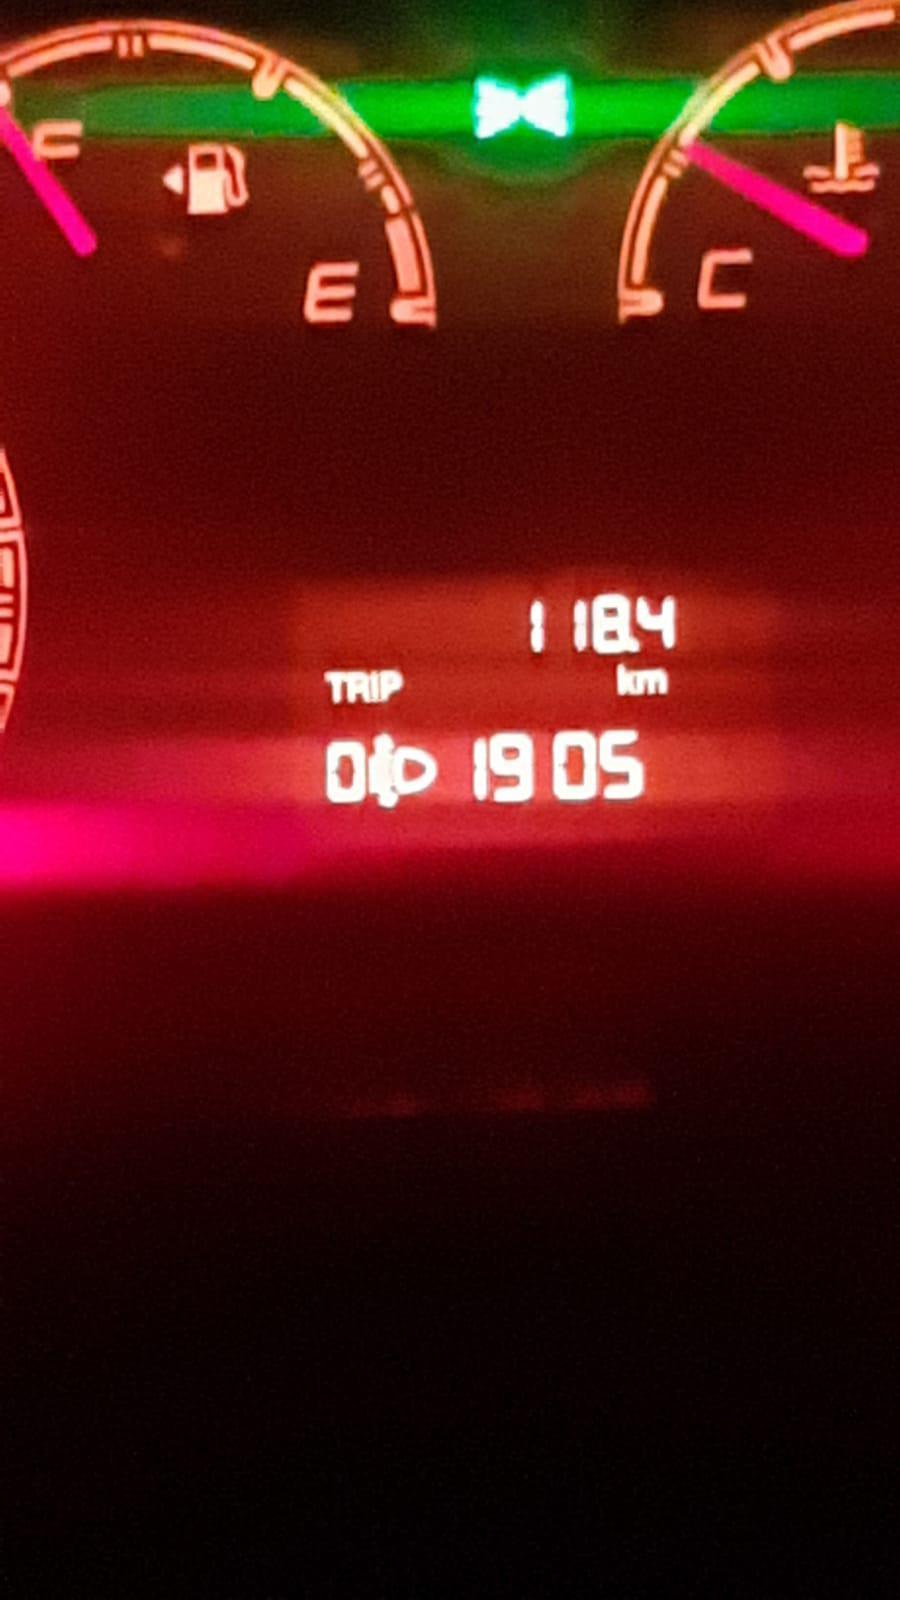,: (626, 636, 640, 653)
0: (549, 729, 598, 802), (322, 738, 368, 805)
1: (470, 736, 489, 803), (571, 598, 589, 653), (529, 599, 545, 654)
4: (635, 595, 678, 649)
5: (599, 727, 646, 800)
8: (590, 592, 630, 655)
9: (487, 730, 536, 805)
X: (635, 668, 670, 698), (379, 668, 404, 704), (323, 669, 347, 705), (346, 670, 368, 703), (615, 662, 635, 697), (367, 669, 379, 703)
odometer: (277, 558, 786, 814)
